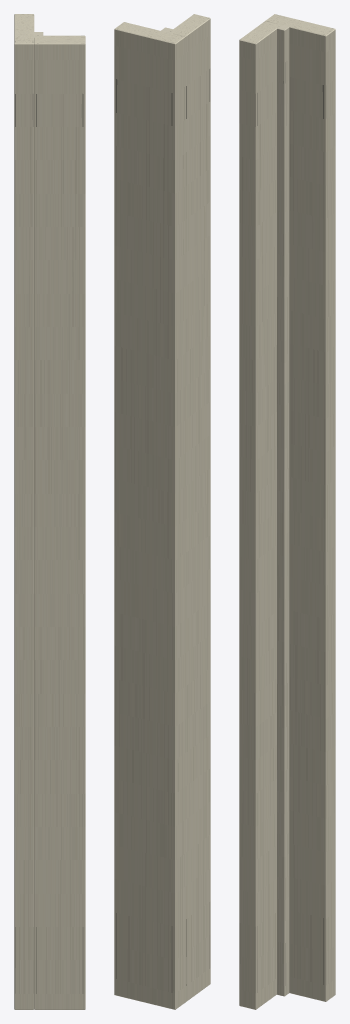
The model's file is house_04_corner_trim.glb.
The picture shows the model from 3 angles, left to right: view 1: azimuth 90°, elevation 25°; view 2: azimuth 150°, elevation 25°; view 3: azimuth 330°, elevation 25°; orthographic projection.
Parts seen in each view (by area): view 1: house_04_corner_trim; view 2: house_04_corner_trim; view 3: house_04_corner_trim.
Part boxes in pixels (x1,y1,x2,y2): house_04_corner_trim: (14, 14, 85, 1009); house_04_corner_trim: (114, 14, 210, 1009); house_04_corner_trim: (239, 14, 335, 1009).
Bounding box in the file's own units: 0.18 × 2.7 × 0.18.
Materials: 2 (2 with a texture image).
